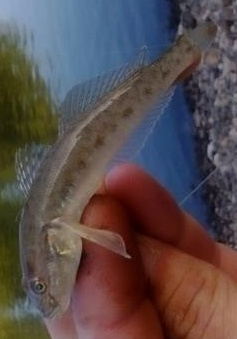Gobio gobio: (20, 20, 217, 319)
